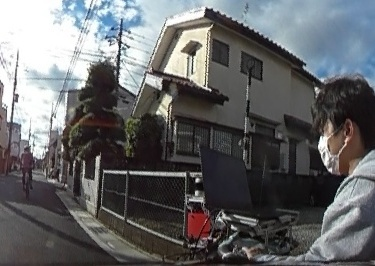person: (239, 70, 375, 266), (20, 144, 35, 186)
